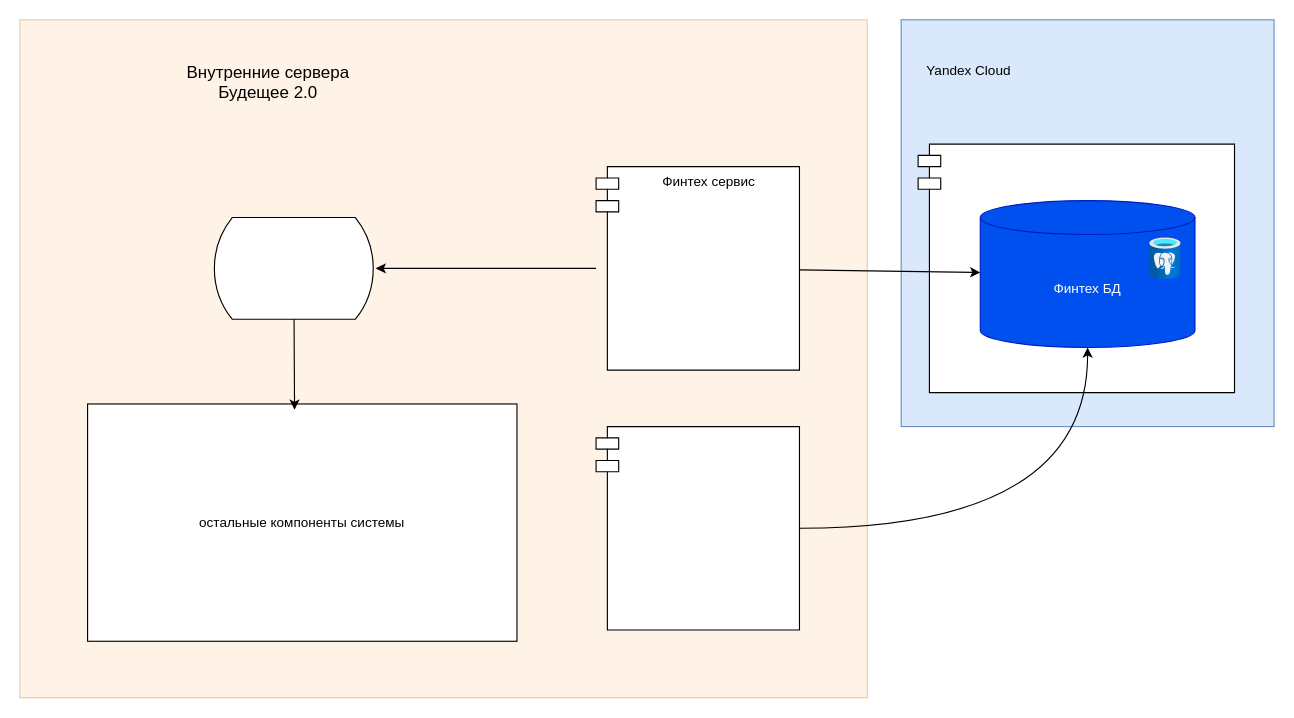
This 1294x718 diagram has some shape labels left out. The shapes that lost their labels are listed below. From the top down, each one's centre as x and y in pixels, then its label:
At [293,267]: "Брокер Kafka".
At [697,527]: "DataLoader Витрины".
